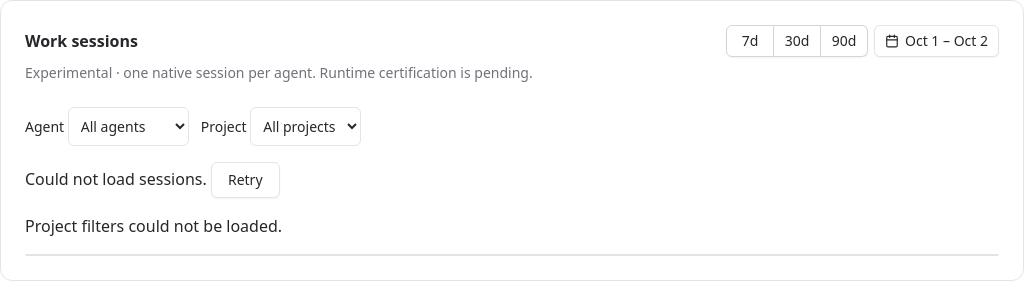
Test: retries failed sessions and explains a failed project filter request
Expected: the message "Could not load sessions. Retry" is shown, [25, 162, 280, 198]
Expected: the text "Project filters could not be loaded." is shown, [25, 215, 282, 237]
Click the button "Retry".
click(245, 180)  # box [211, 162, 280, 198]
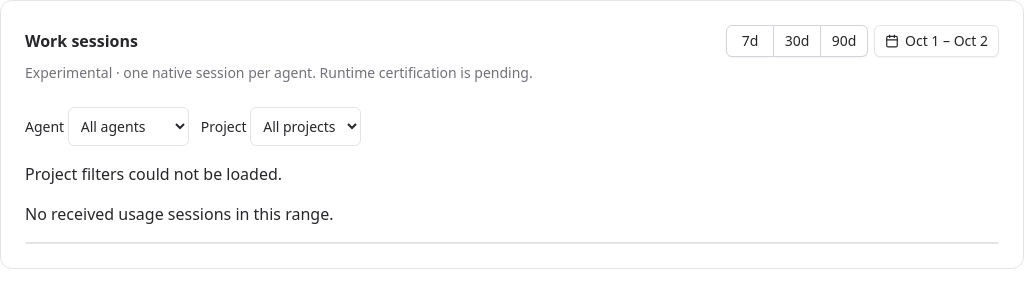
Result: the text "No received usage sessions in this range." is shown at [25, 203, 334, 225]
